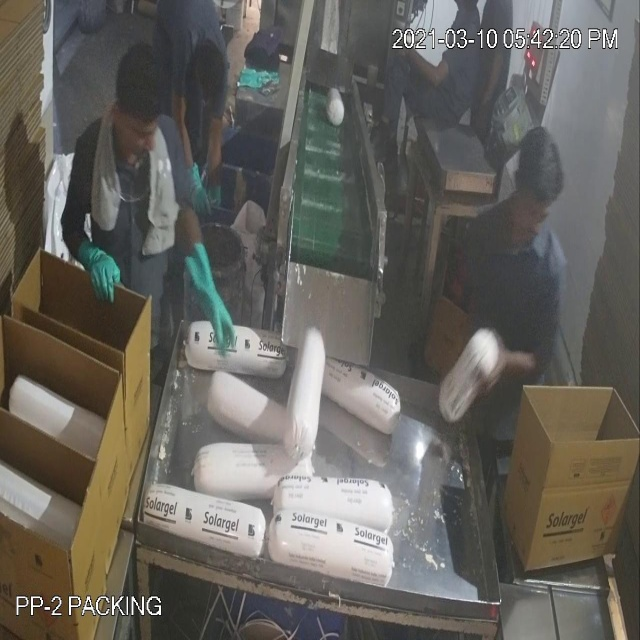Guantes: (175, 228, 248, 359), (71, 229, 126, 313)
Sin_guantes: (471, 324, 548, 408), (396, 38, 452, 99)
